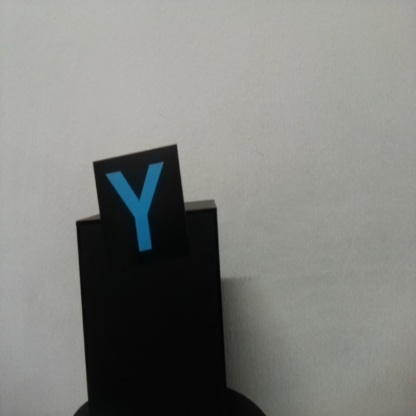id_14: (93, 161, 185, 265)
